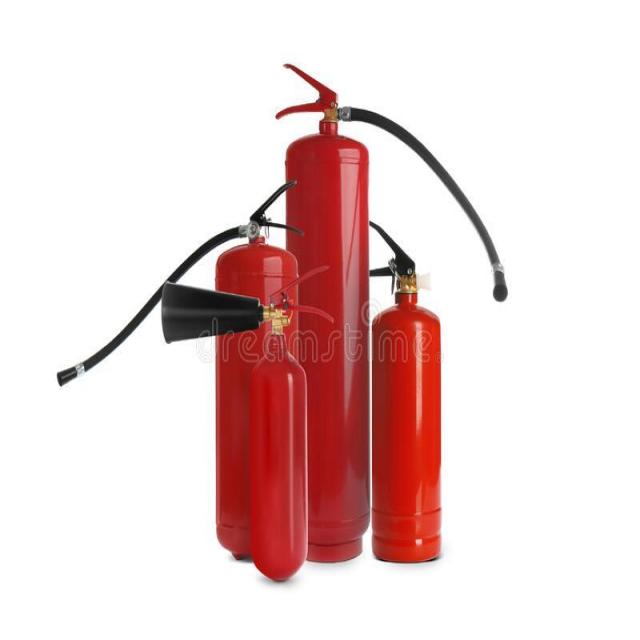fire_extinguisher: (272, 57, 514, 564), (52, 173, 309, 570), (156, 256, 340, 587), (348, 218, 464, 568)
